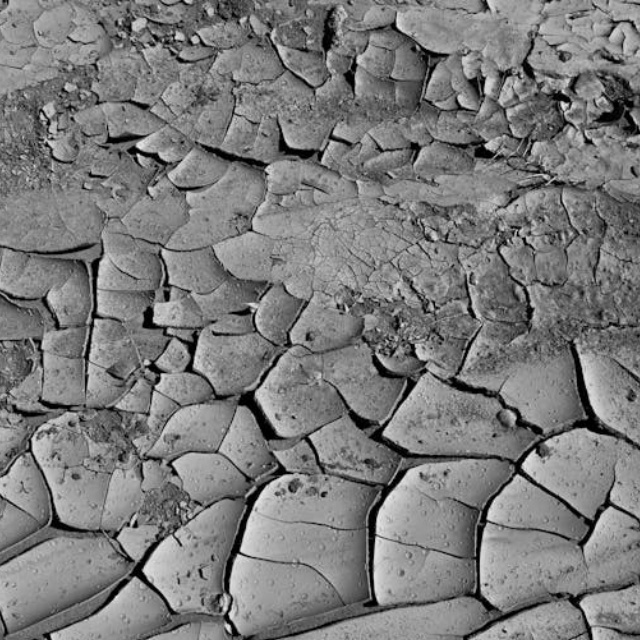细微裂纹: (0, 161, 194, 330), (0, 198, 166, 291)
网状裂隙: (0, 83, 640, 640), (258, 0, 640, 640)
